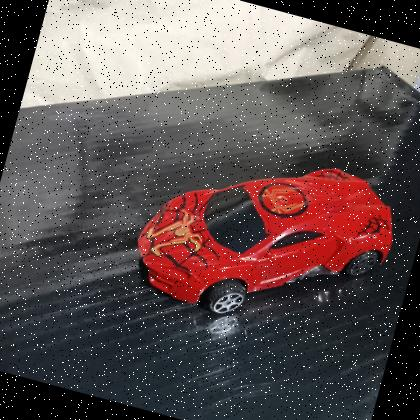Car: (115, 117, 414, 359)
